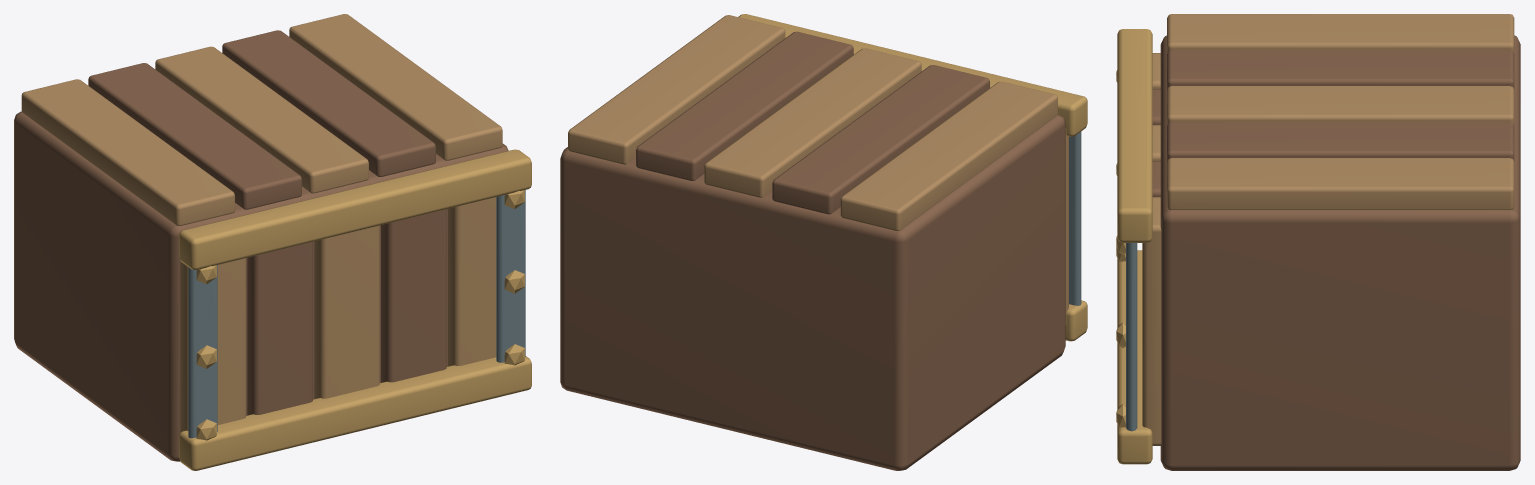
File: SM_OldSupplyCrate_01.fbx
3 views of the same model, side by side, from view 1: azimuth 30°, elevation 25°; view 2: azimuth 150°, elevation 25°; view 3: azimuth 270°, elevation 25° (orthographic). The views are drawn at different scales.
Parts seen in each view (by area): view 1: SM_OldSupplyCrate_01; view 2: SM_OldSupplyCrate_01; view 3: SM_OldSupplyCrate_01.
Part boxes in pixels (bbox=[...]): SM_OldSupplyCrate_01: bbox=[14, 14, 531, 470]; SM_OldSupplyCrate_01: bbox=[560, 14, 1087, 470]; SM_OldSupplyCrate_01: bbox=[1116, 14, 1520, 470].
Size of the model in its own units: 1.35 by 0.9725 by 1.26.
